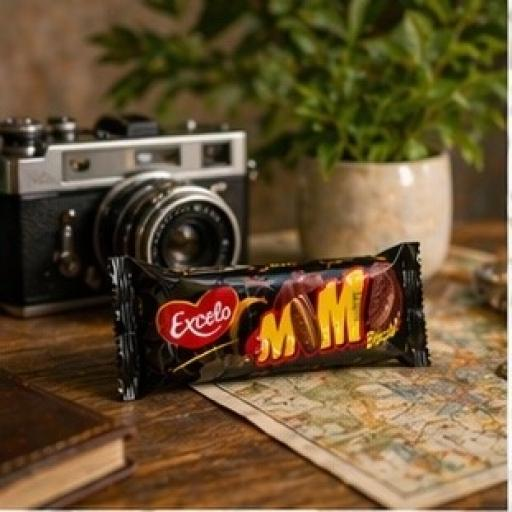MOMO: (93, 217, 443, 400)
